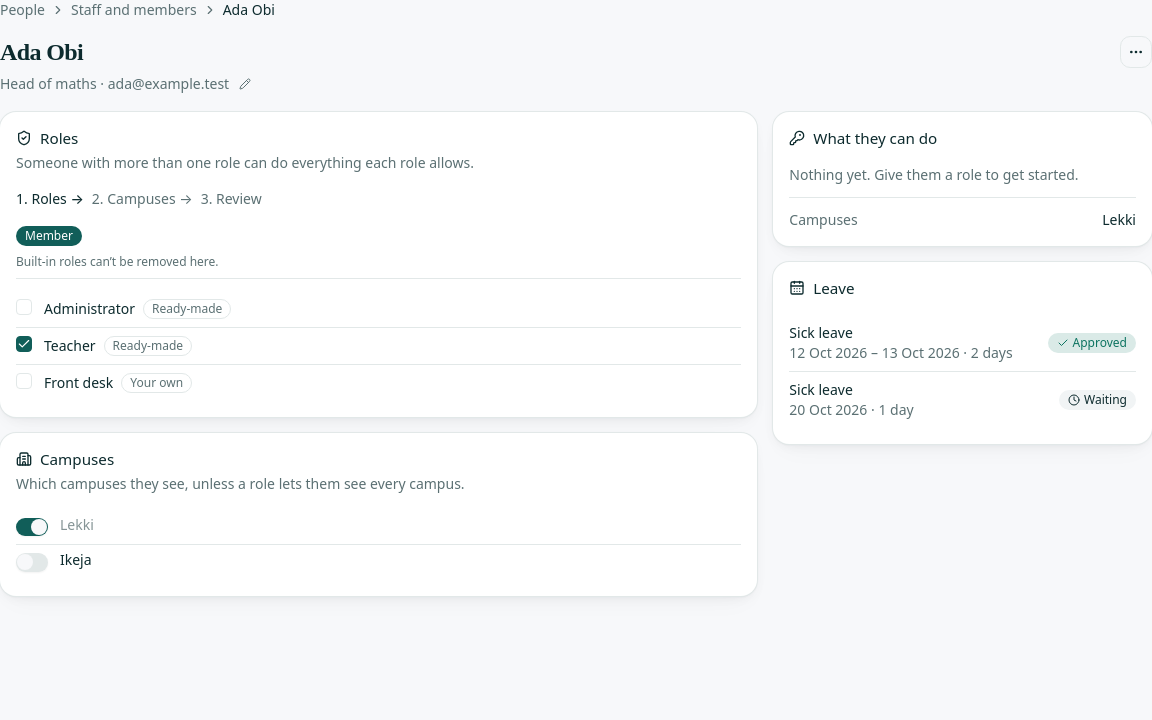
Test: MemberPage › offers a reset to an editor and opens its confirmation
This screenshot has width=1152, height=720.
Click the button named "More actions" at {"x": 1136, "y": 52}, box [1120,36,1151,68]
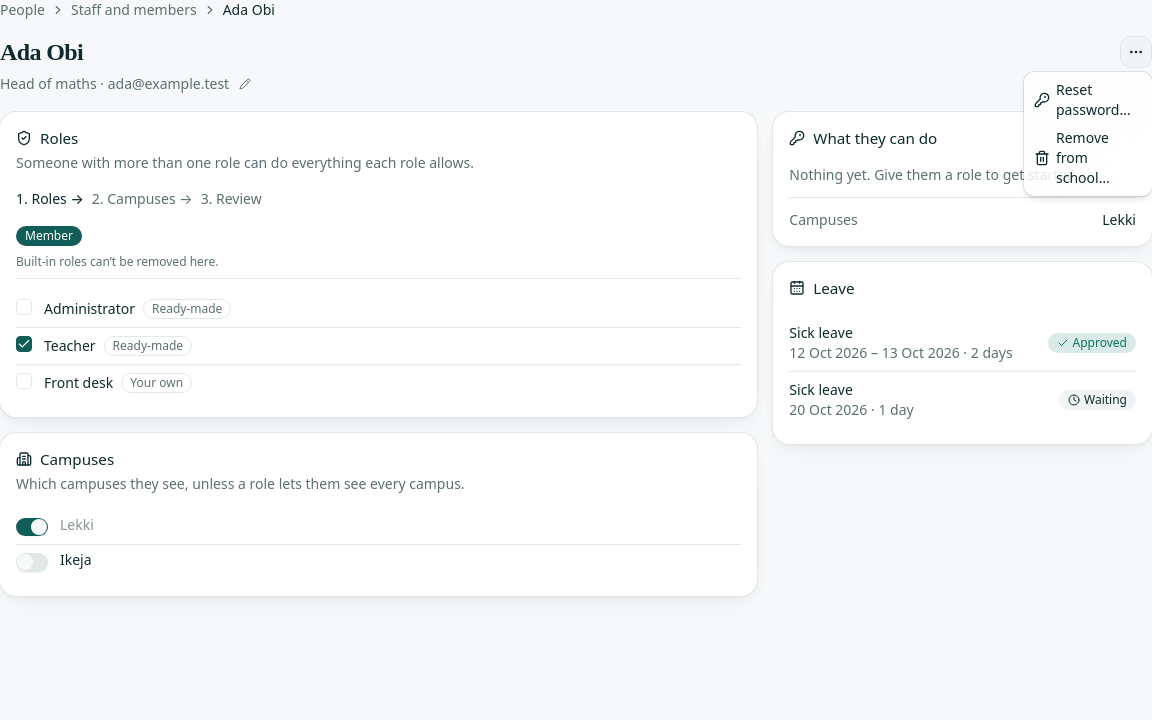
Click the menu item "Reset password…" at {"x": 1082, "y": 100}, box [1034,80,1130,119]
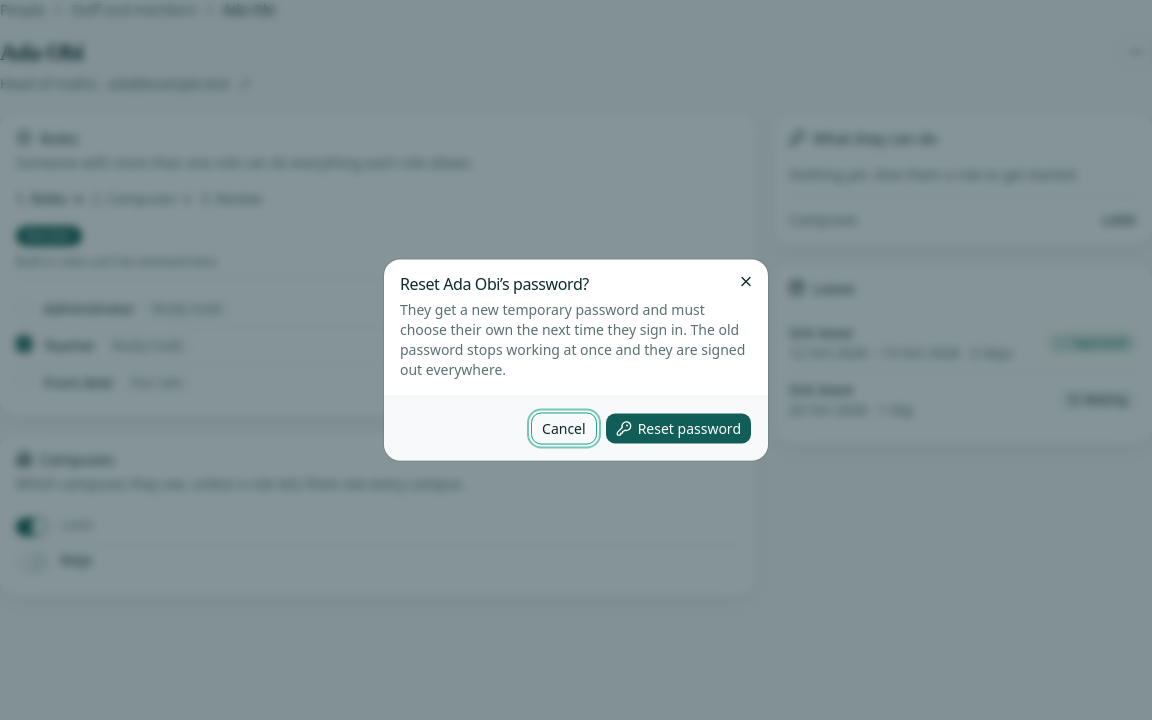
Expected: the heading "Reset Ada Obi’s password?" is shown, [400,272,589,294]
